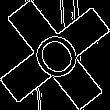O_SE: (23, 22, 87, 88)
